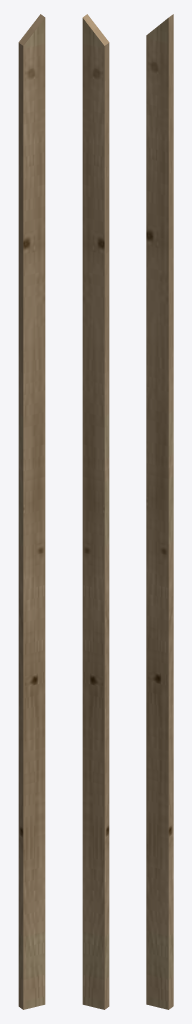
The model's file is Joglo_part_192.fbx.
3 views of the same model, side by side, from view 1: azimuth 30°, elevation 25°; view 2: azimuth 150°, elevation 25°; view 3: azimuth 330°, elevation 25° (orthographic).
Parts seen in each view (by area): view 1: Mesh269_Wood___Pine_Grained_Horizontal_0.001; view 2: Mesh269_Wood___Pine_Grained_Horizontal_0.001; view 3: Mesh269_Wood___Pine_Grained_Horizontal_0.001.
Boxes of the visible parts, left/top/right/bottom form: Mesh269_Wood___Pine_Grained_Horizontal_0.001: left=18, top=14, right=45, bottom=1009; Mesh269_Wood___Pine_Grained_Horizontal_0.001: left=82, top=14, right=109, bottom=1009; Mesh269_Wood___Pine_Grained_Horizontal_0.001: left=146, top=14, right=173, bottom=1009.
Size of the model in its own units: 1.97 by 84.13 by 0.7477.
